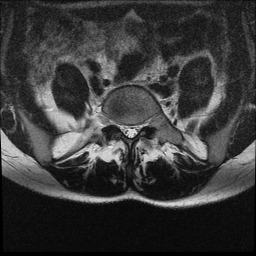CCS_severe_stenosis: (127, 118, 134, 144)
LFS_stenosis: (141, 113, 149, 134)
LLS_normal: (134, 117, 141, 140)
RFS_stenosis: (114, 112, 121, 134)
RLS_normal: (120, 117, 127, 140)
